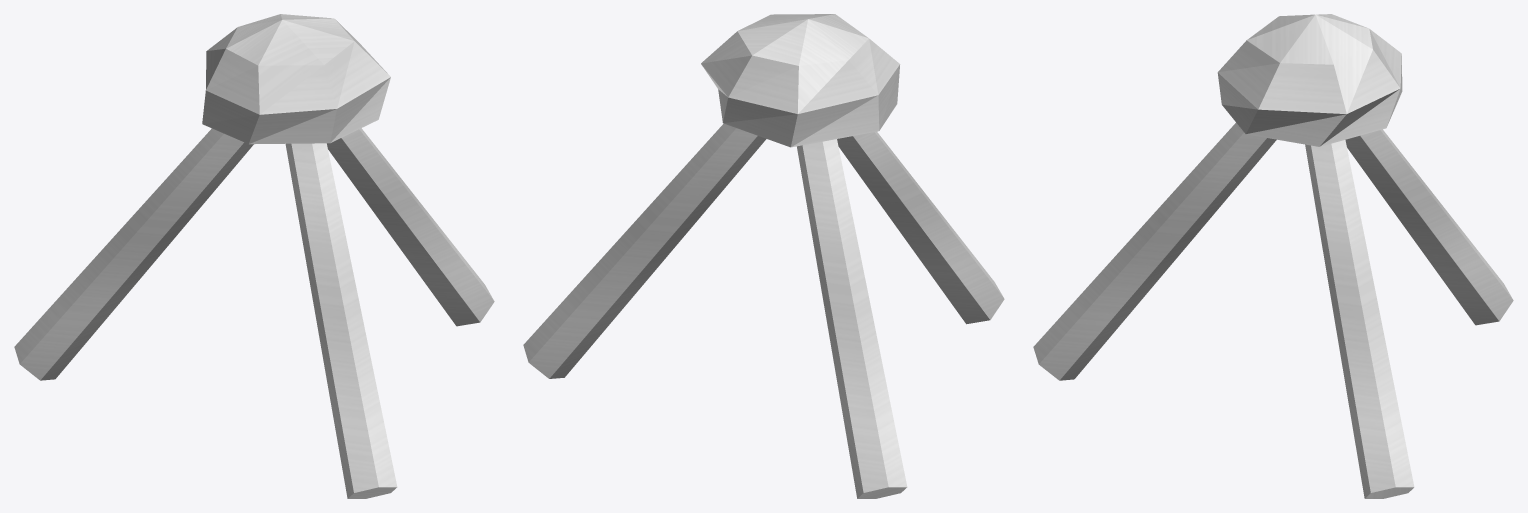
The model's file is ruin_tripod.obj.
3 renders of one model, left to right at view 1: azimuth 30°, elevation 25°; view 2: azimuth 150°, elevation 25°; view 3: azimuth 270°, elevation 25°, orthographic.
Parts seen in each view (by area): view 1: ruin_tripod; view 2: ruin_tripod; view 3: ruin_tripod.
Boxes of the visible parts, x1,y1,x2,y2 form: ruin_tripod: (14,14,494,498); ruin_tripod: (523,14,1004,498); ruin_tripod: (1033,14,1513,498).
Bounding box in the file's own units: 2.23 × 1.92 × 2.19.
